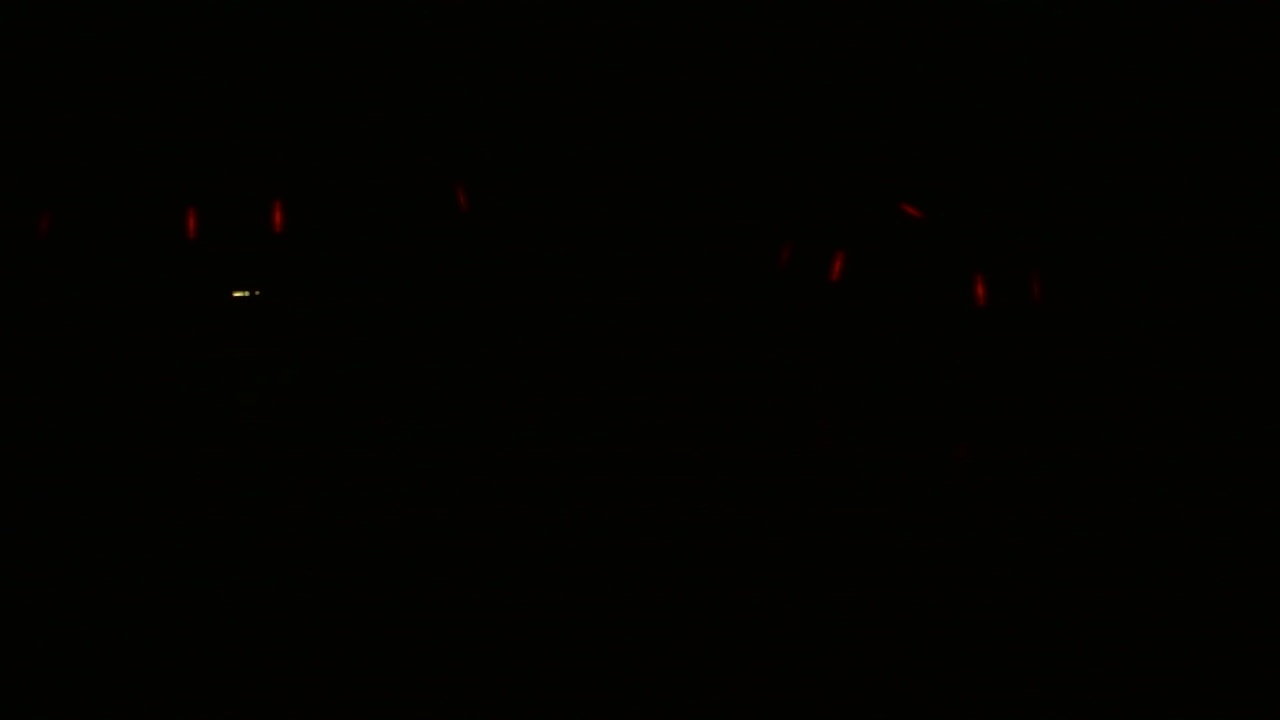pair1: (180, 198, 287, 238), (779, 237, 842, 281)
